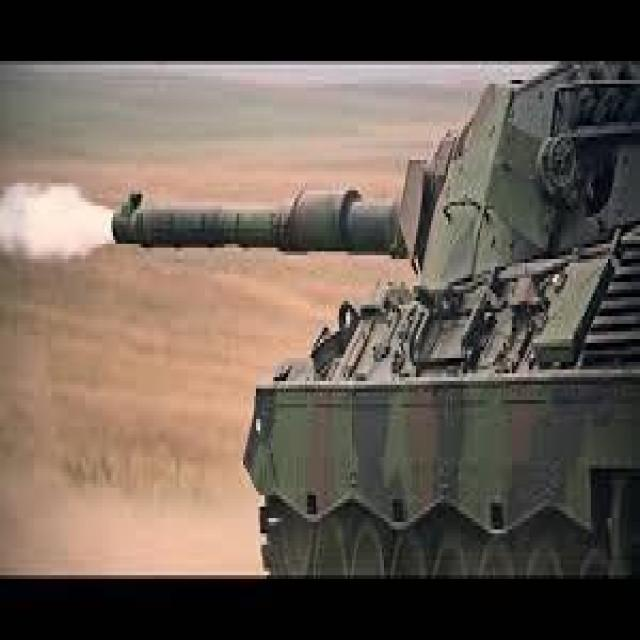Tanks: (111, 86, 629, 577)
